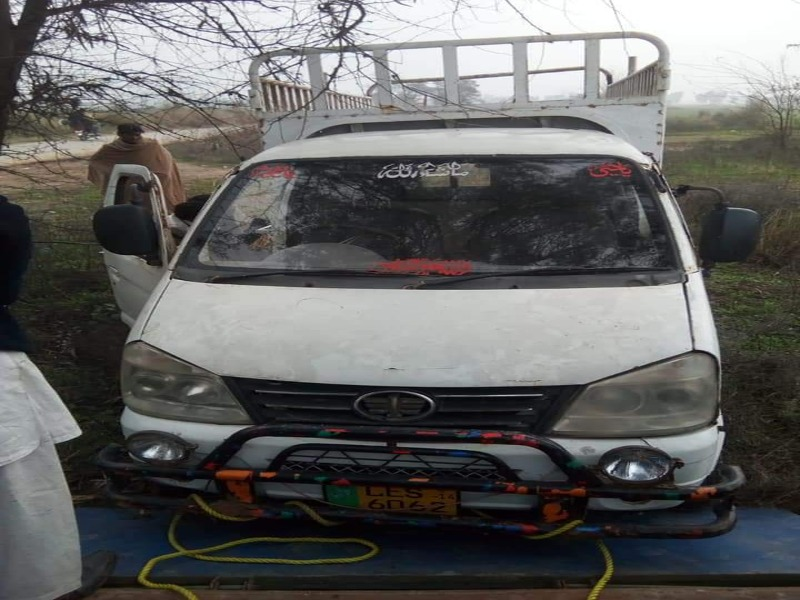License Plate: (321, 476, 465, 521)
